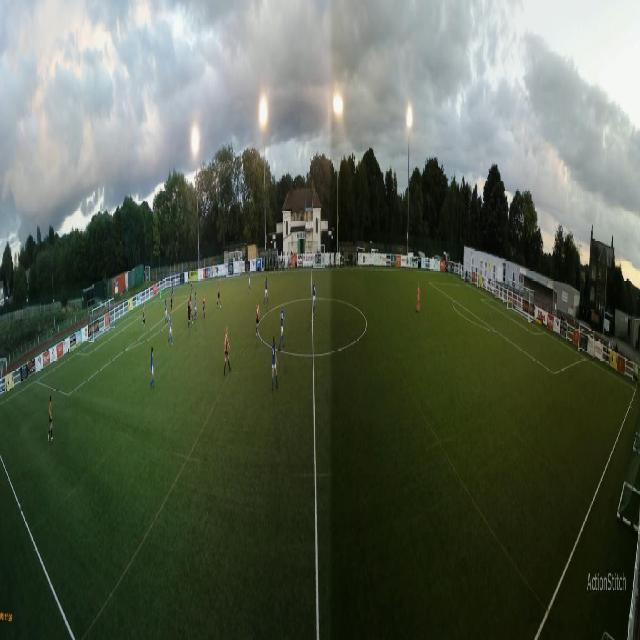player: (224, 326, 232, 377), (272, 336, 278, 391), (48, 393, 54, 441), (279, 302, 285, 349), (167, 313, 173, 347), (216, 279, 222, 309), (151, 345, 155, 390), (416, 281, 421, 313), (312, 279, 316, 318), (256, 301, 260, 338), (264, 277, 269, 306), (189, 295, 193, 325), (142, 300, 146, 327), (194, 291, 197, 321), (203, 293, 206, 322), (188, 301, 191, 330), (159, 287, 162, 309), (249, 269, 251, 294), (165, 300, 167, 322), (171, 290, 173, 311), (191, 274, 193, 294), (172, 282, 174, 300)
